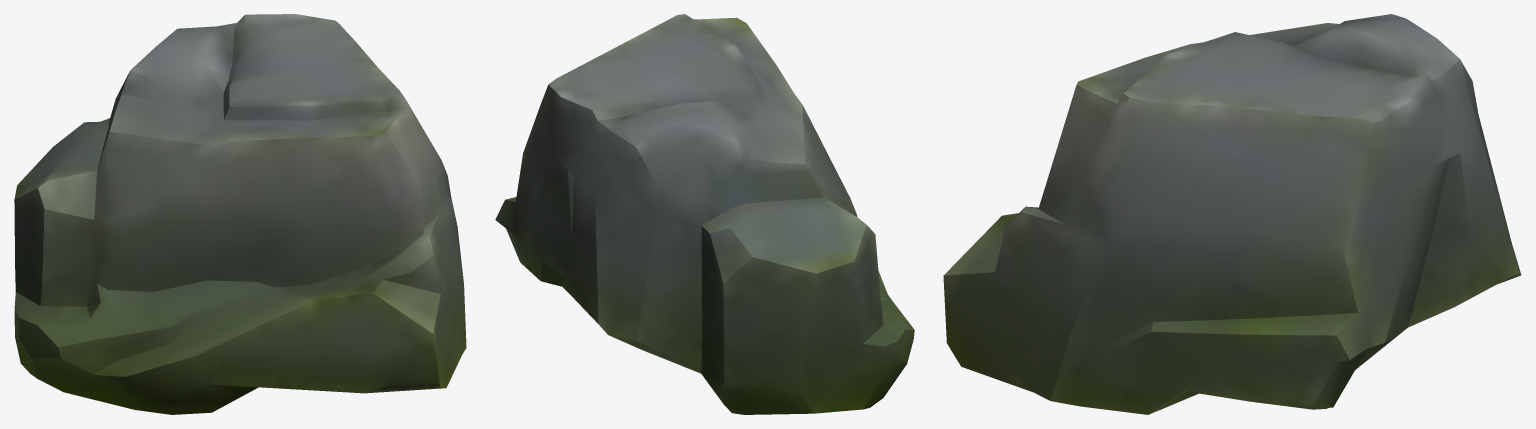
File: rock_b.glb
3 views of the same model, side by side, from view 1: azimuth 30°, elevation 25°; view 2: azimuth 150°, elevation 25°; view 3: azimuth 270°, elevation 25° (orthographic). The views are drawn at different scales.
Visible parts, largest first — view 1: Rock_Medium_3; view 2: Rock_Medium_3; view 3: Rock_Medium_3.
Part boxes in pixels (x1=…): Rock_Medium_3: x1=14, y1=14, x2=466, y2=414; Rock_Medium_3: x1=495, y1=14, x2=914, y2=414; Rock_Medium_3: x1=943, y1=14, x2=1521, y2=414.
Bounding box in the file's own units: 3.42 × 2.32 × 3.48.
Materials: 1 (1 with a texture image).
